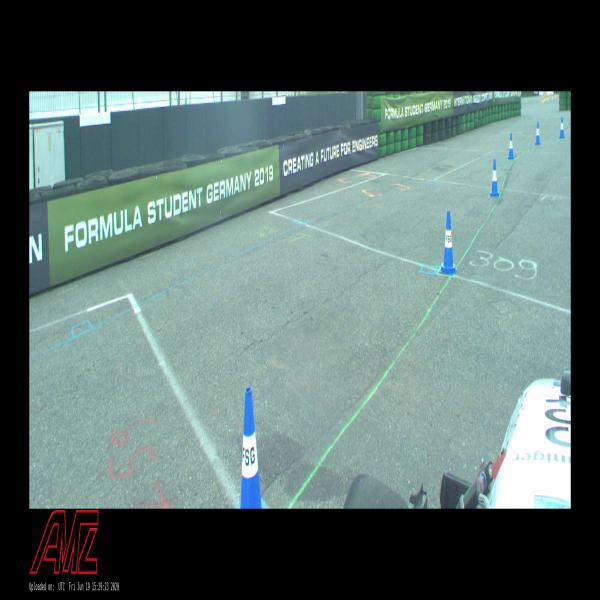blue_cone: (237, 386, 267, 508), (439, 211, 457, 275), (490, 159, 499, 197), (508, 133, 514, 159), (535, 122, 541, 145), (559, 117, 565, 138)
